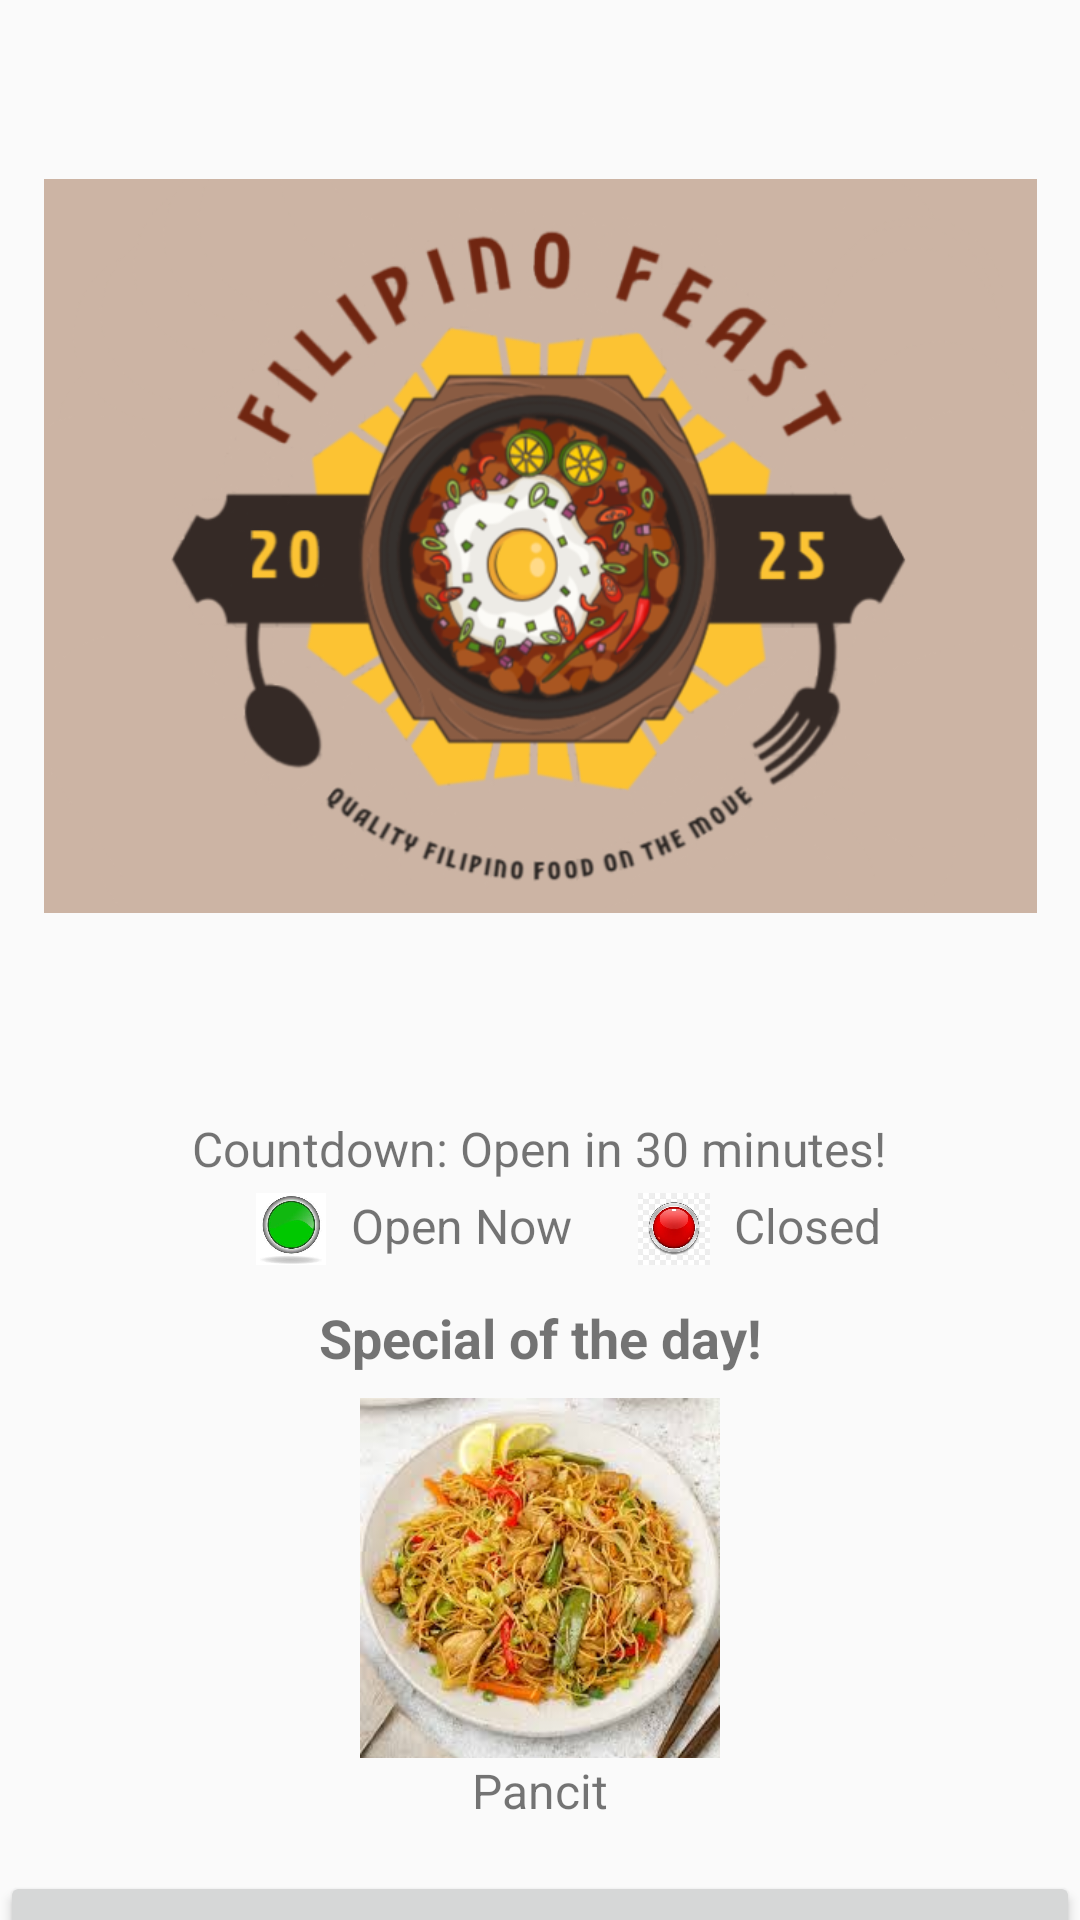

Screen size 1080w x 1920h. Icon name, then its center in pixels as (x=x, y=y):
greenbutton: (x=291, y=1229)
redbutton: (x=674, y=1228)
